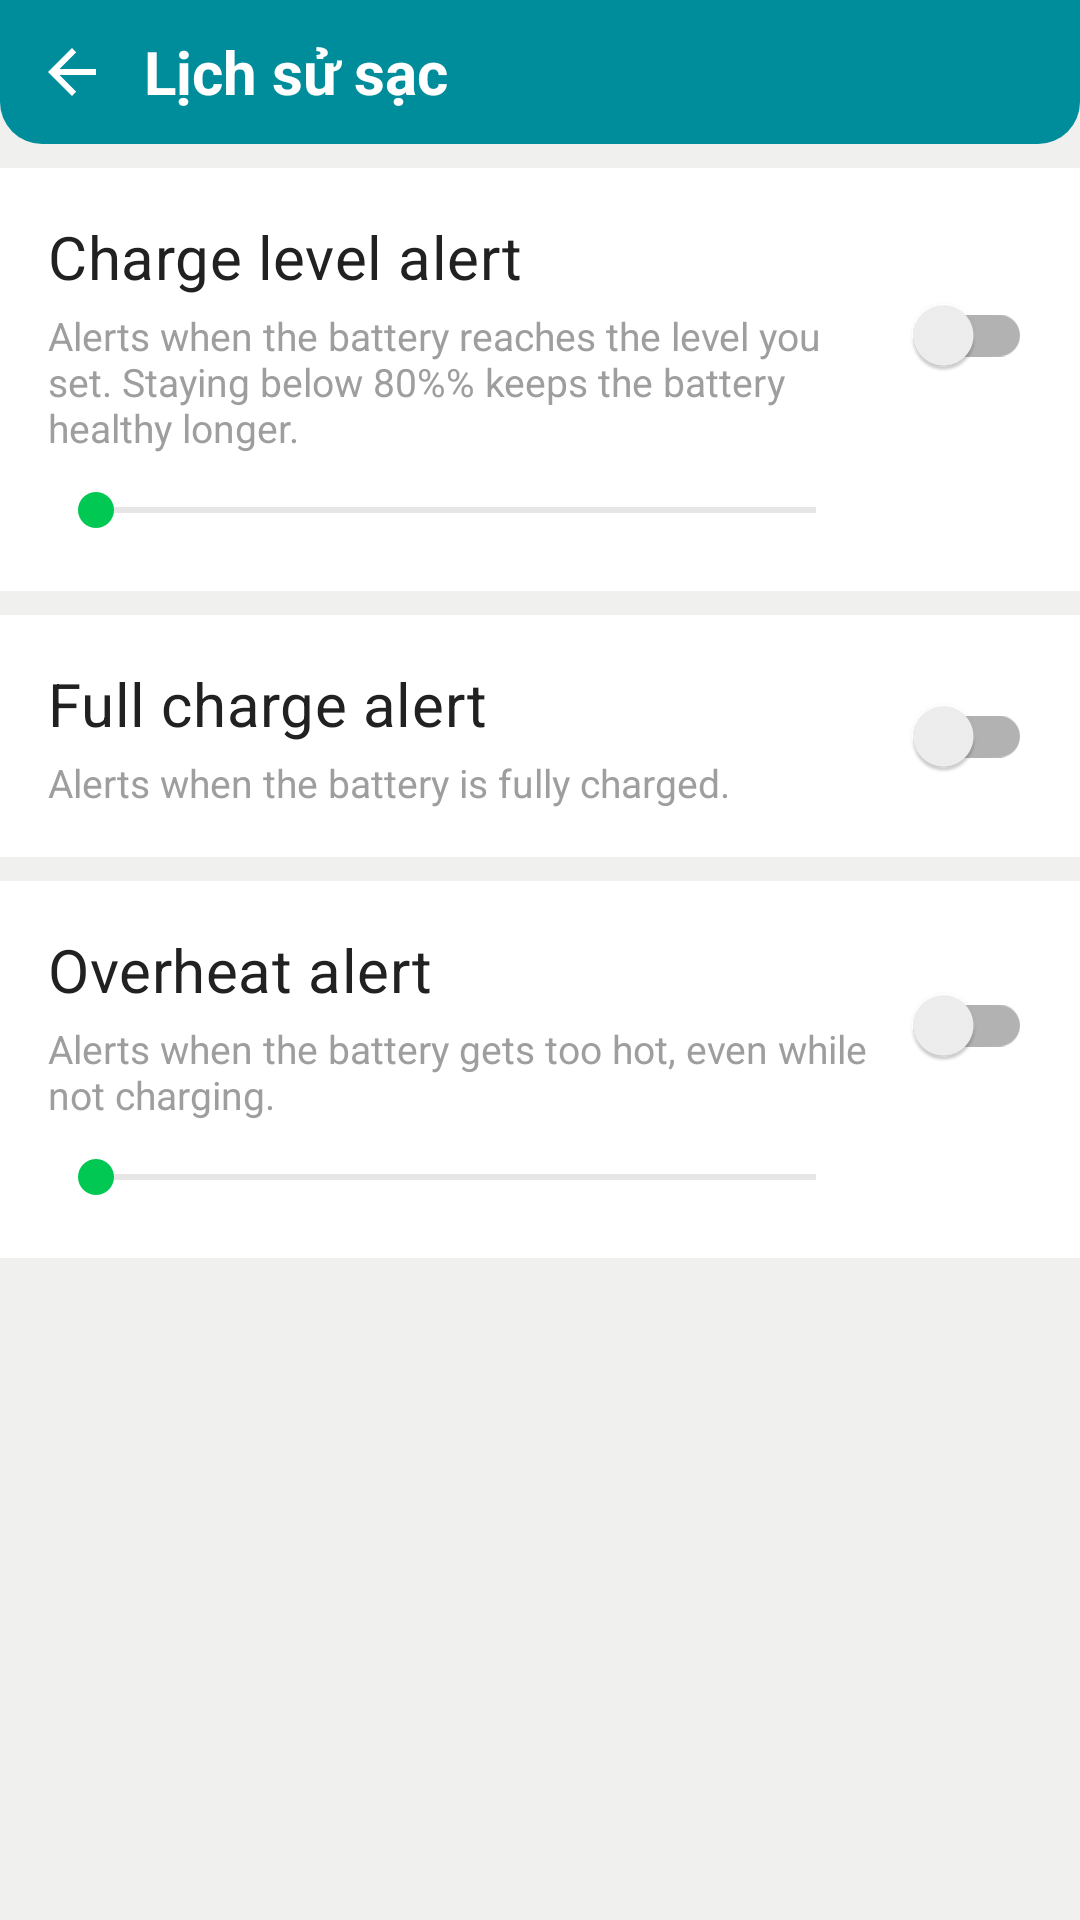

Named icons in this screenshot (1080w x 1920h) and their centers, (x,y):
Back: (72,72)
